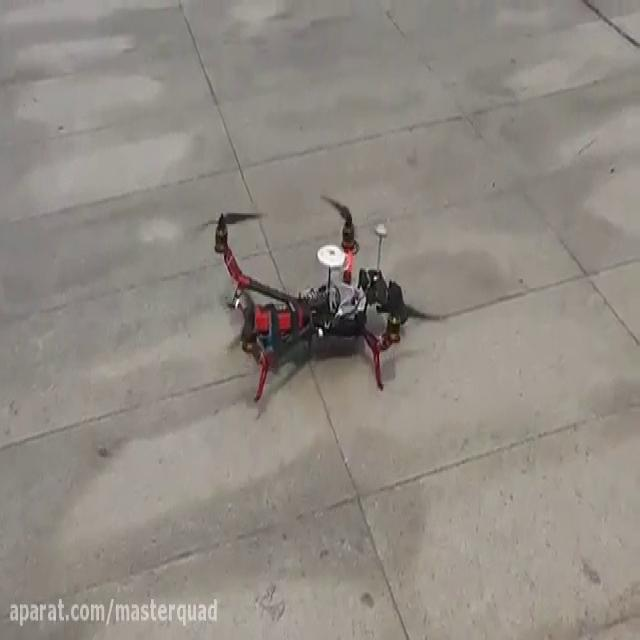drone: (180, 183, 442, 405)
